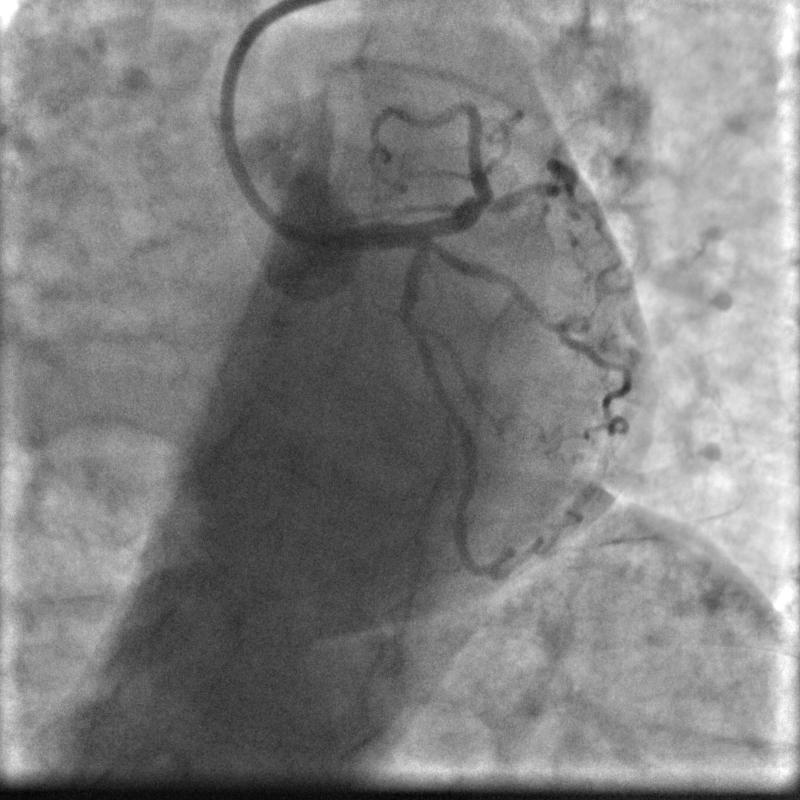Stenosis: (398, 304, 427, 335)
